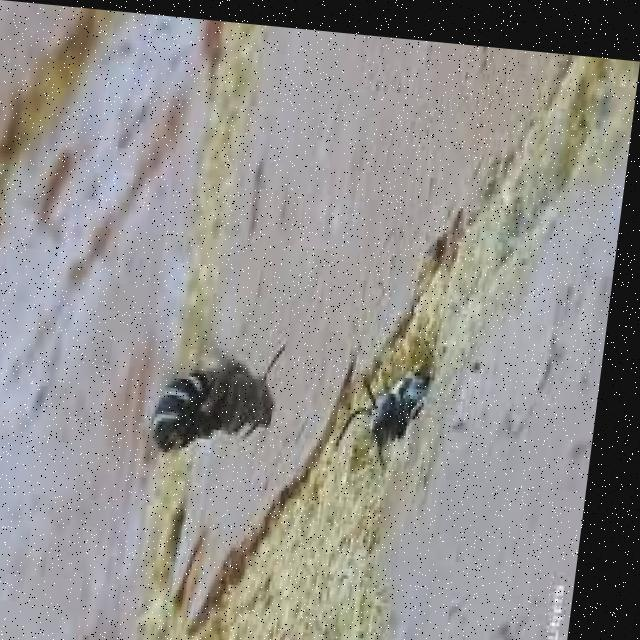Thyreus: (154, 319, 291, 447), (337, 350, 448, 450)
